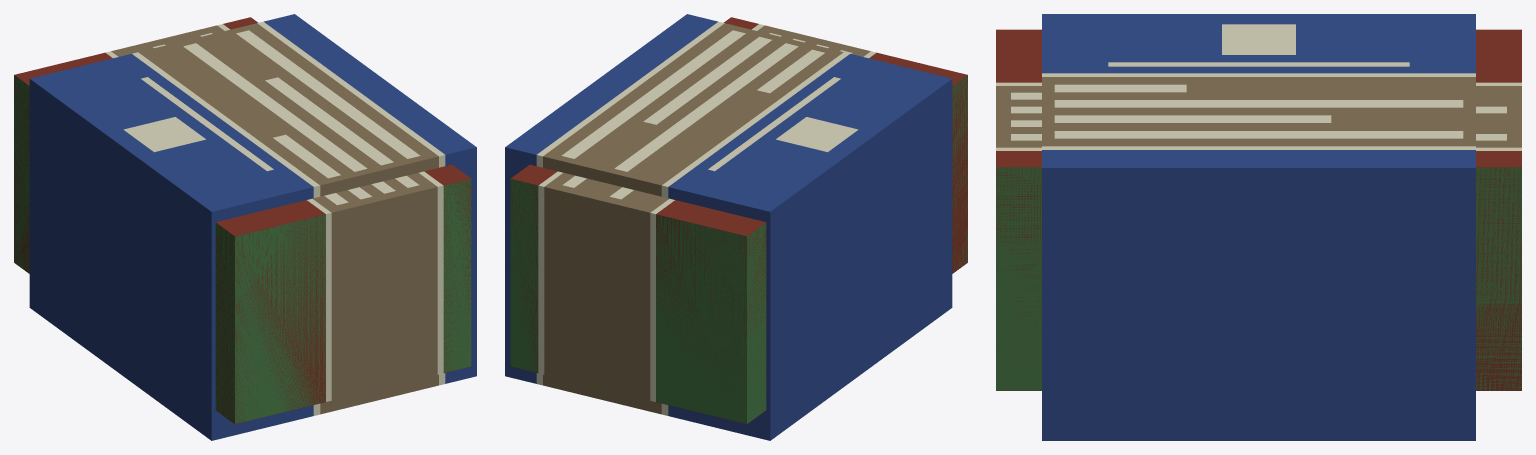
Rendered from патрони.fbx.
The picture shows the model from 3 angles, left to right: view 1: azimuth 30°, elevation 25°; view 2: azimuth 150°, elevation 25°; view 3: azimuth 270°, elevation 25°; orthographic projection. The views are drawn at different scales.
Parts seen in each view (by area): view 1: Куб.002, Куб, Куб.003; view 2: Куб.002, Куб, Куб.003; view 3: Куб.002, Куб.003, Куб.
Boxes of the visible parts, x1,y1,x2,y2 form: Куб.002: (29,14,476,440); Куб: (14,75,471,423); Куб.003: (14,17,471,424); Куб.002: (505,14,952,440); Куб: (510,75,967,423); Куб.003: (510,17,967,424); Куб.002: (1042,14,1475,440); Куб.003: (996,29,1521,390); Куб: (996,167,1521,390).
Bounding box in the file's own units: 18.13 × 14.97 × 26.14.
